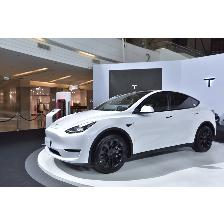EV: (46, 86, 220, 175)
